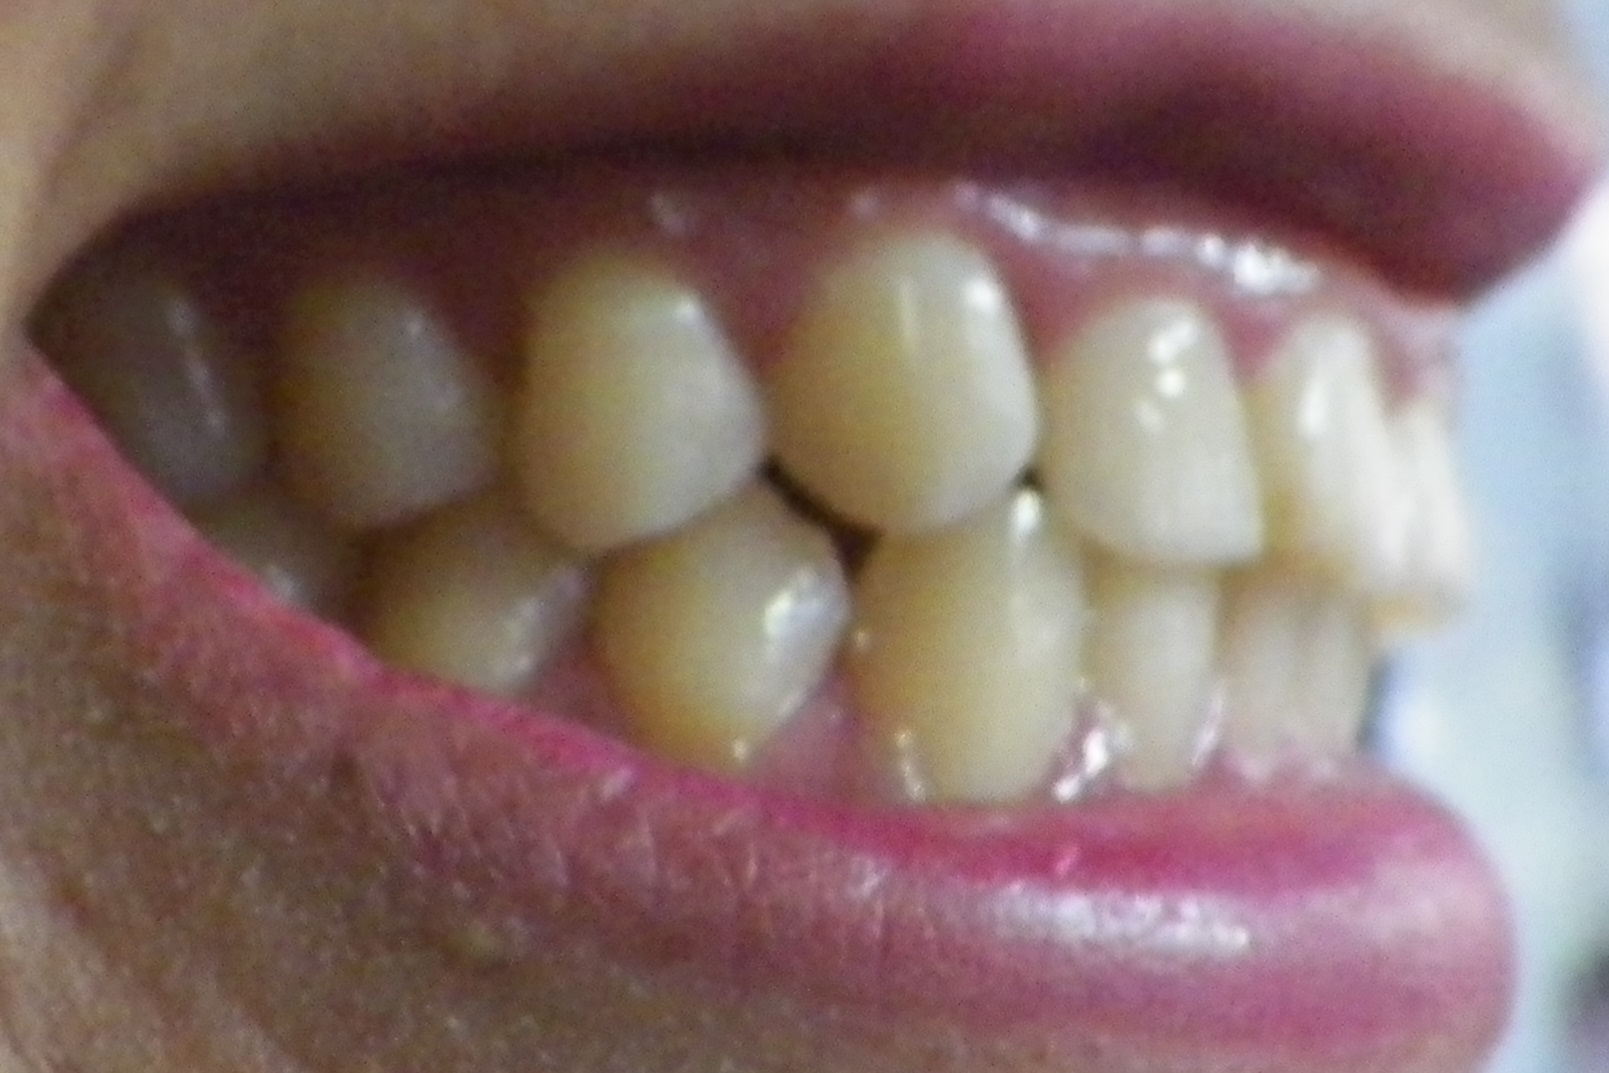boca: (47, 242, 1447, 792)
